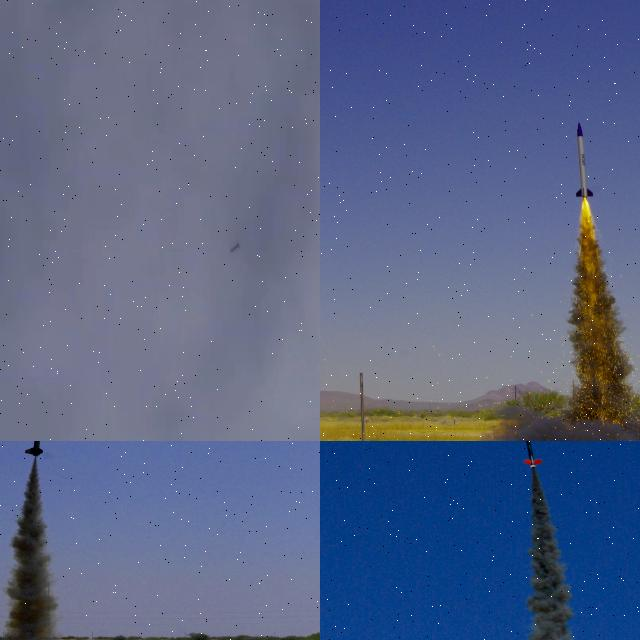Rocket: (575, 122, 594, 198), (507, 441, 542, 468), (23, 441, 47, 457), (228, 241, 240, 254)
